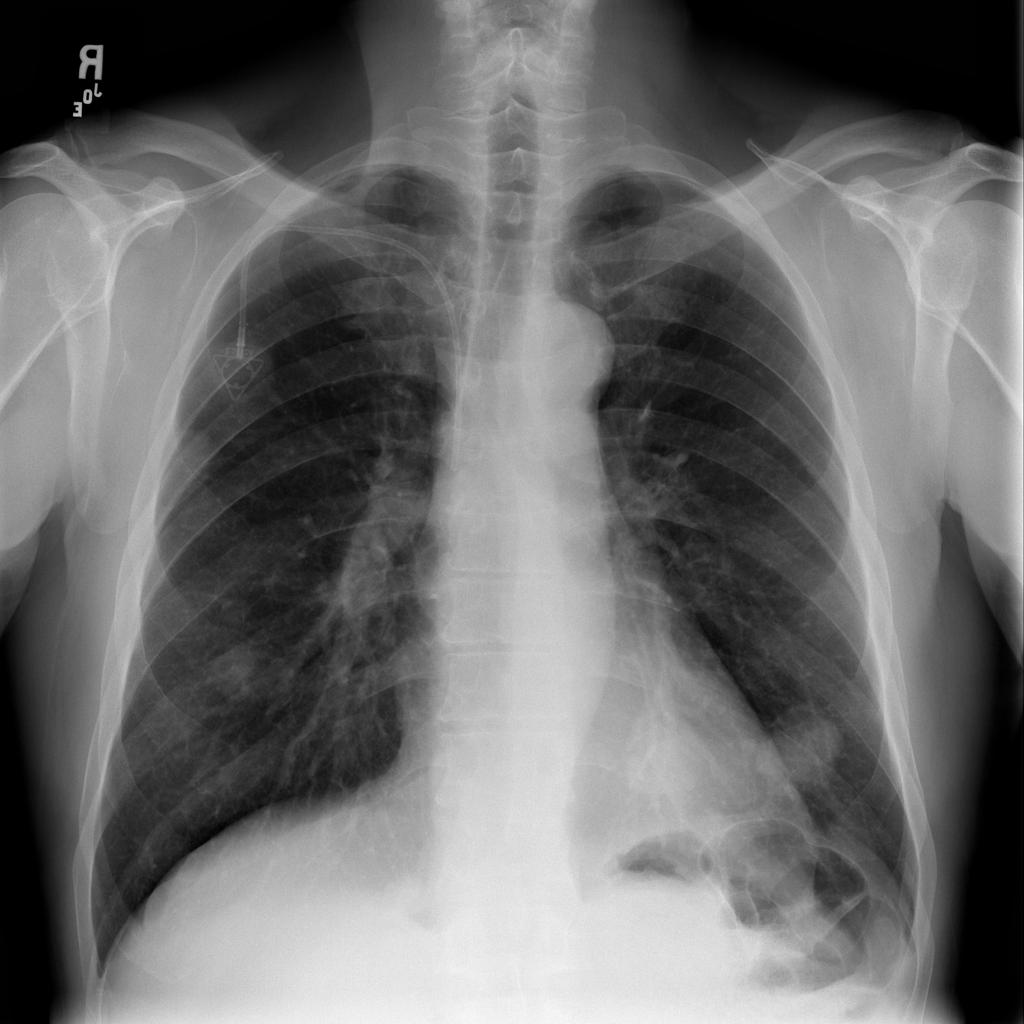nodule: (740, 692, 859, 812), (608, 706, 720, 818), (199, 633, 275, 714)
